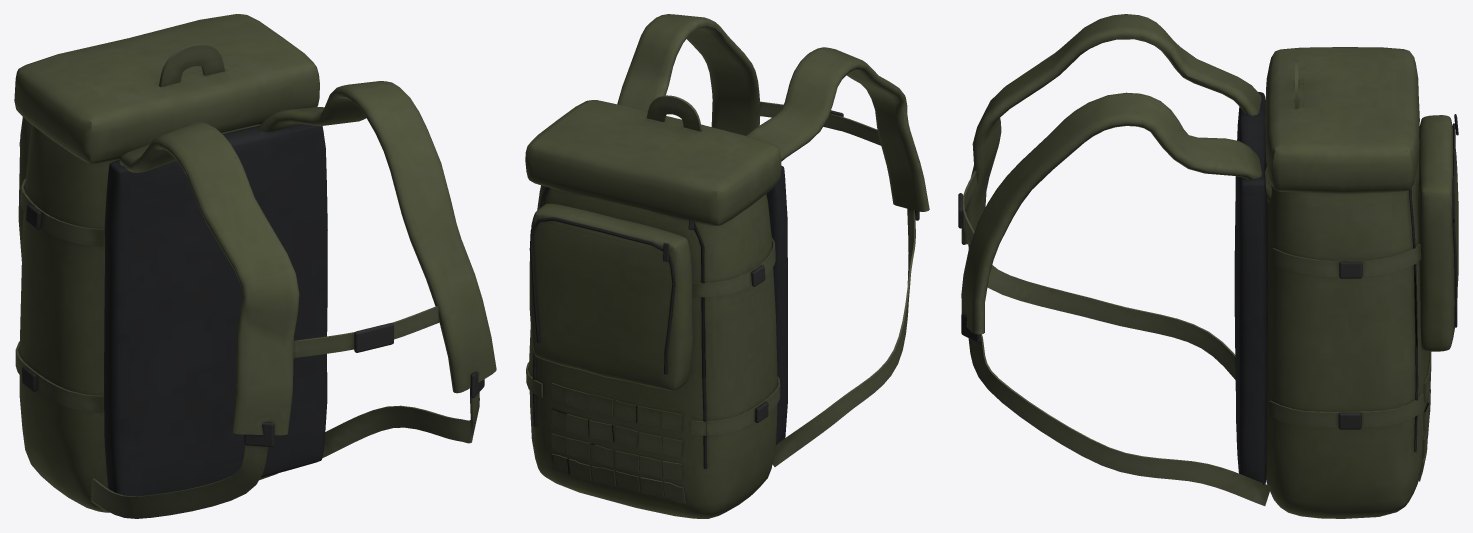
Rendered from backpack_2.glb.
3 views of the same model, side by side, from view 1: azimuth 30°, elevation 25°; view 2: azimuth 150°, elevation 25°; view 3: azimuth 270°, elevation 25° (orthographic). The views are drawn at different scales.
Parts seen in each view (by area): view 1: body; view 2: body; view 3: body.
Part boxes in pixels (x1,y1,x2,y2): body: (14,14,496,518); body: (525,14,929,518); body: (958,14,1458,518).
Size of the model in its own units: 0.4174 by 0.5626 by 0.6014.
1 material, 1 textured.
